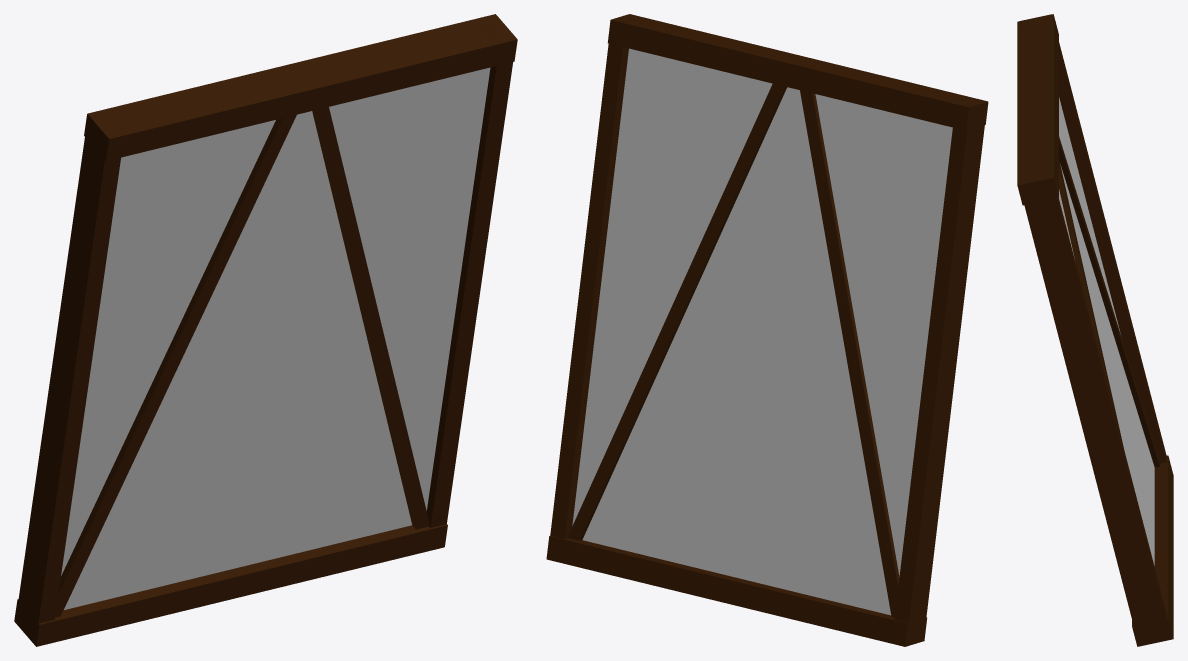
Rendered from MaisRich_Mur_et_ext.fbx.
3 renders of one model, left to right at view 1: azimuth 30°, elevation 25°; view 2: azimuth 150°, elevation 25°; view 3: azimuth 270°, elevation 25°, orthographic. The views are drawn at different scales.
Visible parts, largest first — view 1: polySurface34; view 2: polySurface34; view 3: polySurface34.
Part boxes in pixels (x1,y1,x2,y2): polySurface34: (14, 14, 517, 646); polySurface34: (546, 14, 988, 646); polySurface34: (1017, 14, 1173, 646).
Size of the model in its own units: 30.47 by 40.66 by 12.27.
